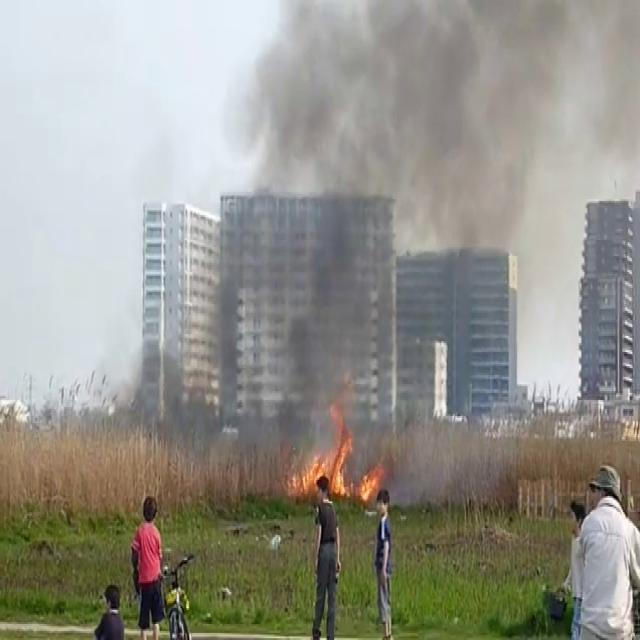Fire: (288, 400, 385, 503)
Smoke: (212, 0, 554, 457), (475, 0, 640, 247)
